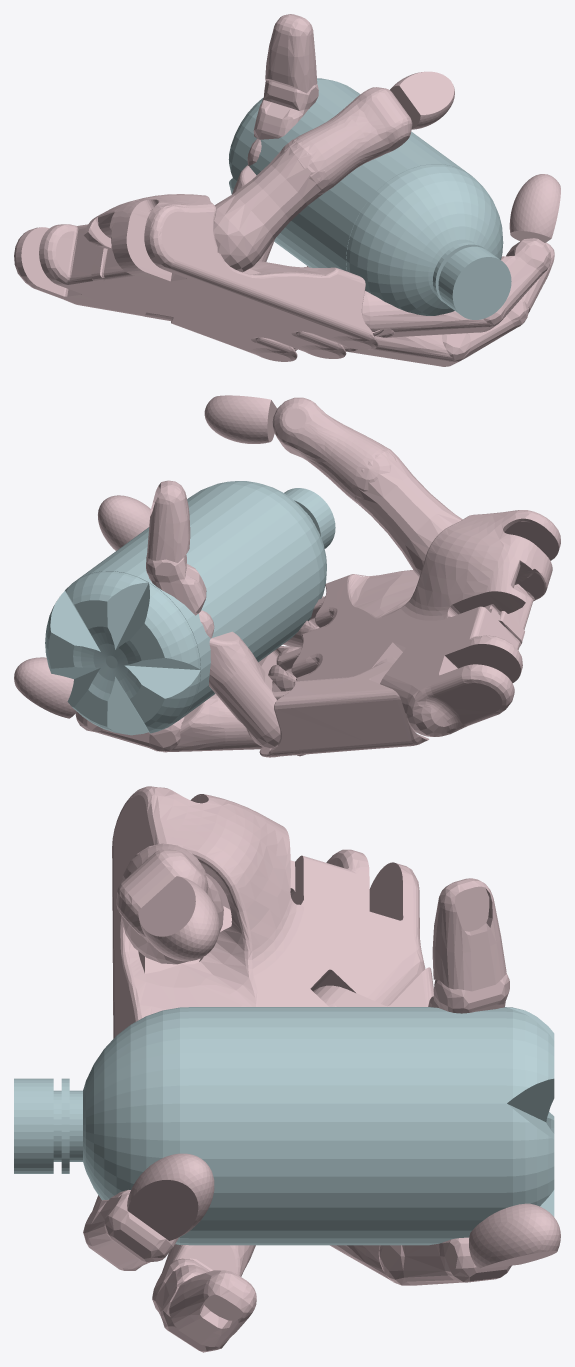
Rendered from grasp_8.glb.
3 views of the same model, one above another, from view 1: azimuth 30°, elevation 25°; view 2: azimuth 150°, elevation 25°; view 3: azimuth 270°, elevation 25° (orthographic). The views are drawn at different scales.
Visible parts, largest first — view 1: world; view 2: world; view 3: world.
Part boxes in pixels (x1,y1,x2,y2): world: [14, 14, 560, 366]; world: [14, 395, 560, 757]; world: [14, 786, 560, 1352].
Bounding box in the file's own units: 0.1964 × 0.1183 × 0.1382.
